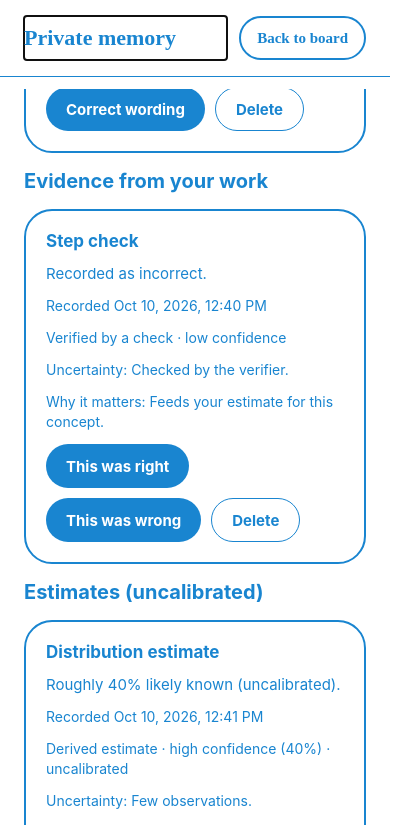
Test case: MemoryScreen › marks evidence right or wrong and shows the recomputed estimate from the receipt
The image size is (402, 825).
(page scrolled)
Click the button with aria-label "This was right: Step check" at (118, 466), box [46,444,189,488]
(page scrolled)
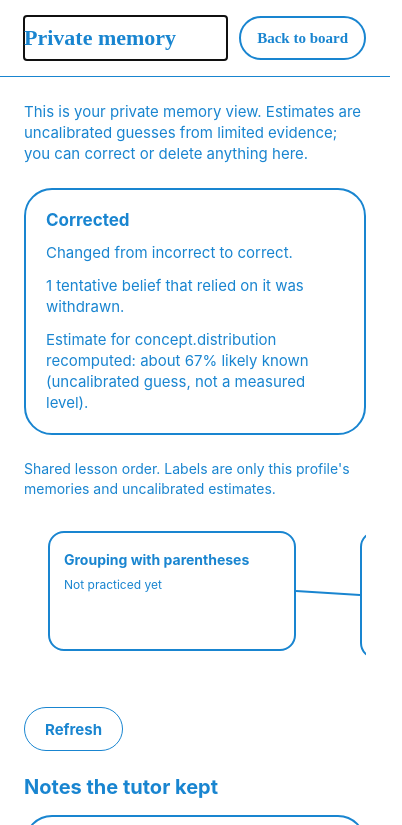
Expected: the element with test id "memory-change" shows "67%", [46,330,313,412]
Expected: the element with test id "memory-change" shows "withdrawn", [46,276,308,316]
